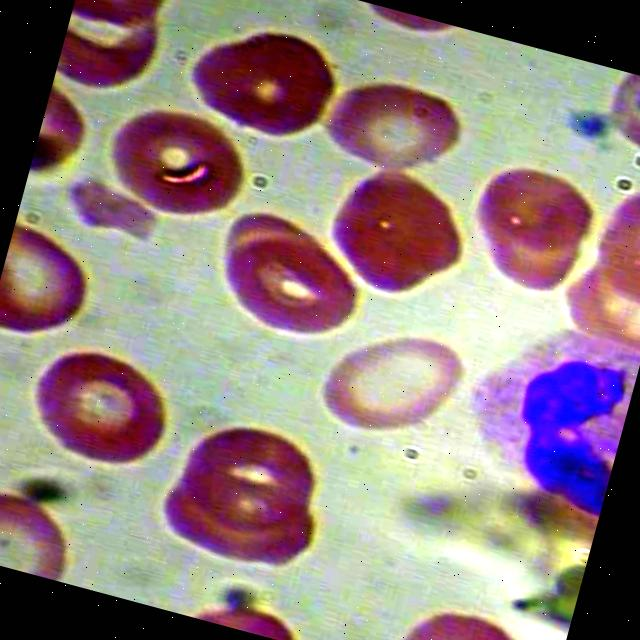RBC: (298, 28, 494, 192), (8, 328, 193, 498), (168, 2, 358, 159), (201, 194, 384, 354), (84, 93, 268, 250), (314, 144, 482, 312), (306, 306, 482, 462), (136, 454, 328, 588), (458, 147, 614, 306), (172, 406, 332, 544), (0, 209, 108, 357)
WBC: (437, 277, 640, 548)
